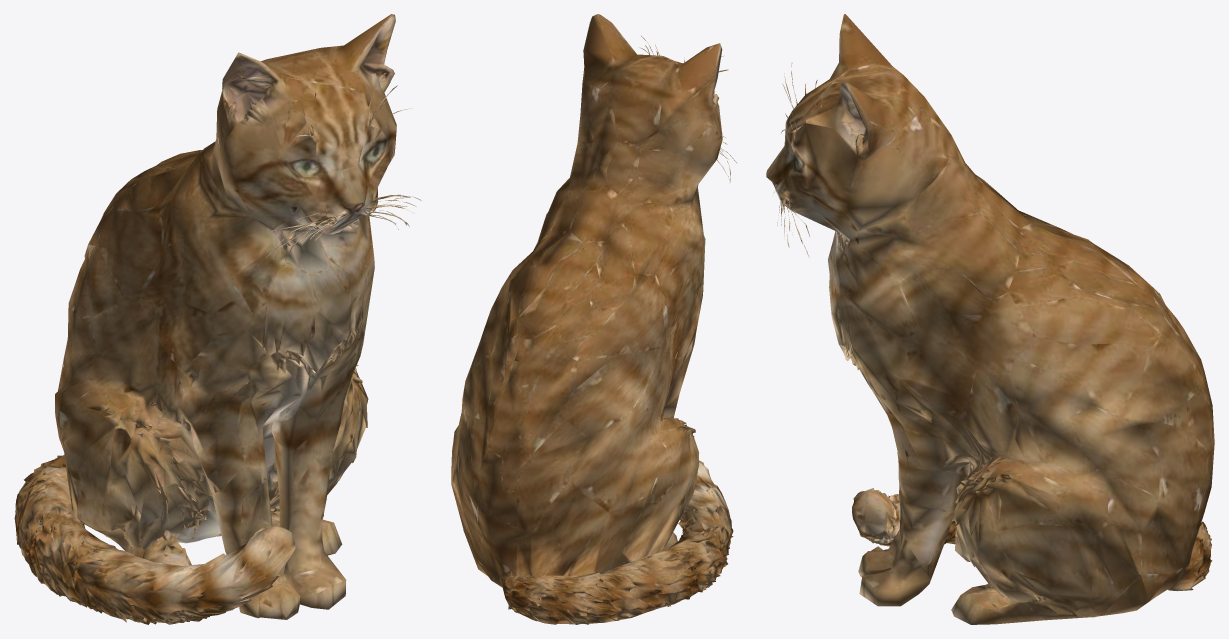
Rendered from cat.glb.
3 views of the same model, side by side, from view 1: azimuth 30°, elevation 25°; view 2: azimuth 150°, elevation 25°; view 3: azimuth 270°, elevation 25° (orthographic). The views are drawn at different scales.
Size of the model in its own units: 1.03 by 1.91 by 1.42.
1 material, 1 textured.
